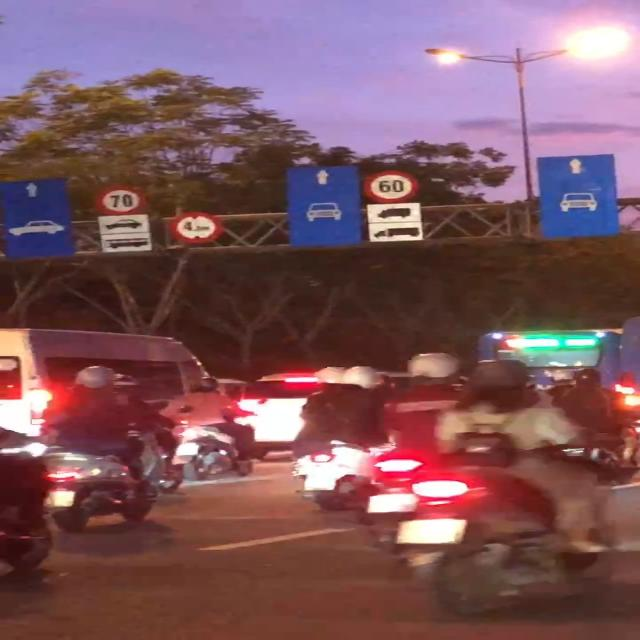Bien bao han che chieu cao: (168, 210, 223, 247)
Bien bao toc do toi da cho phep: (357, 168, 422, 207), (90, 186, 148, 214)
